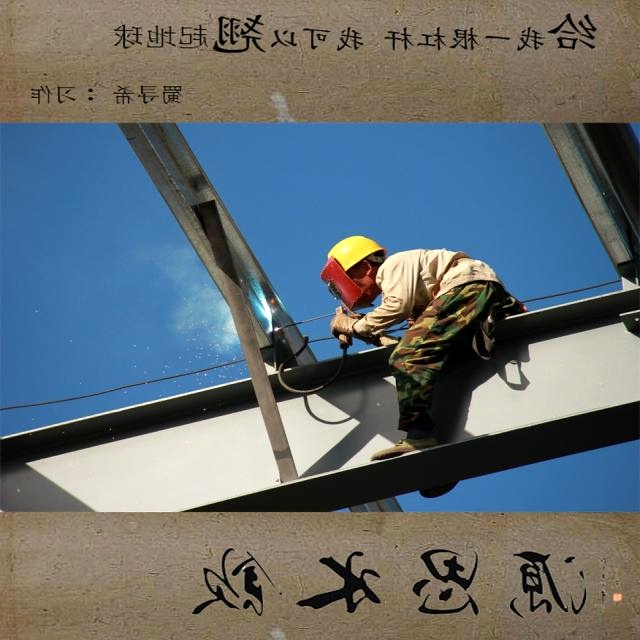Con_Casco: (325, 232, 380, 300)
